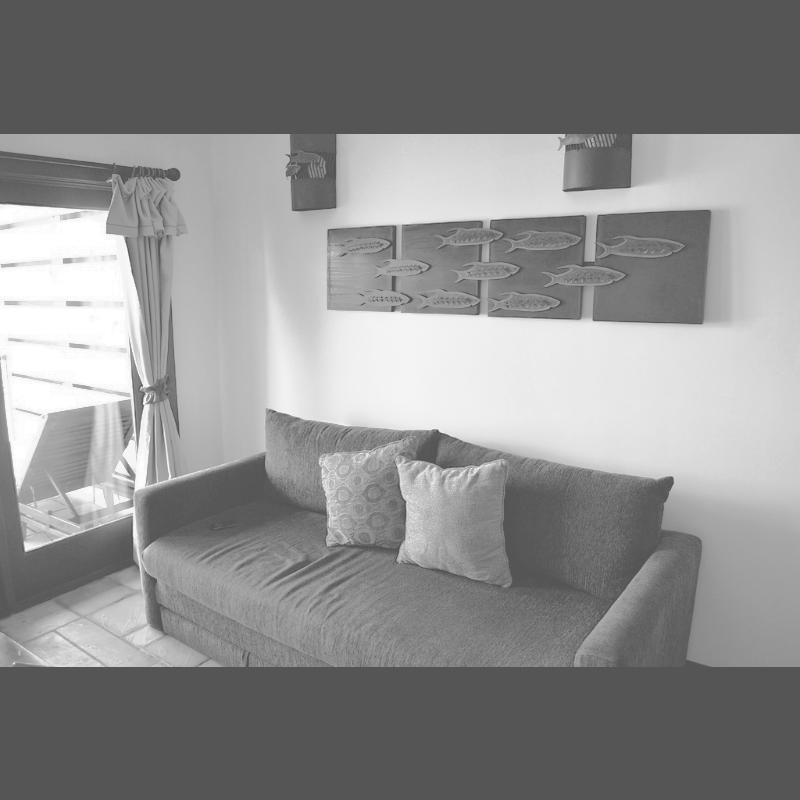pillow: (399, 455, 505, 601), (318, 434, 410, 546)
